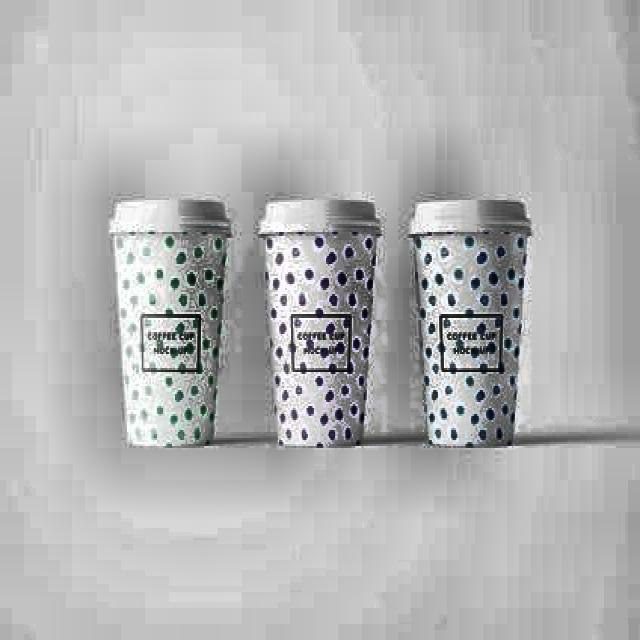Cup: (398, 205, 542, 468), (98, 212, 236, 458), (249, 218, 387, 454)
